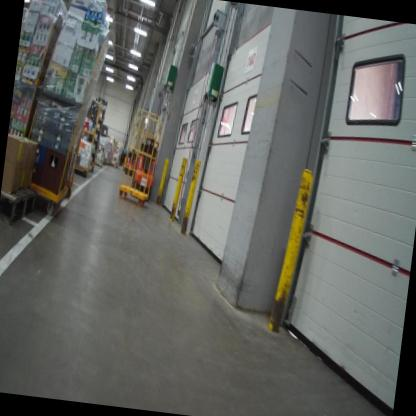pallet_truck: (132, 132, 163, 199), (119, 142, 141, 178)
